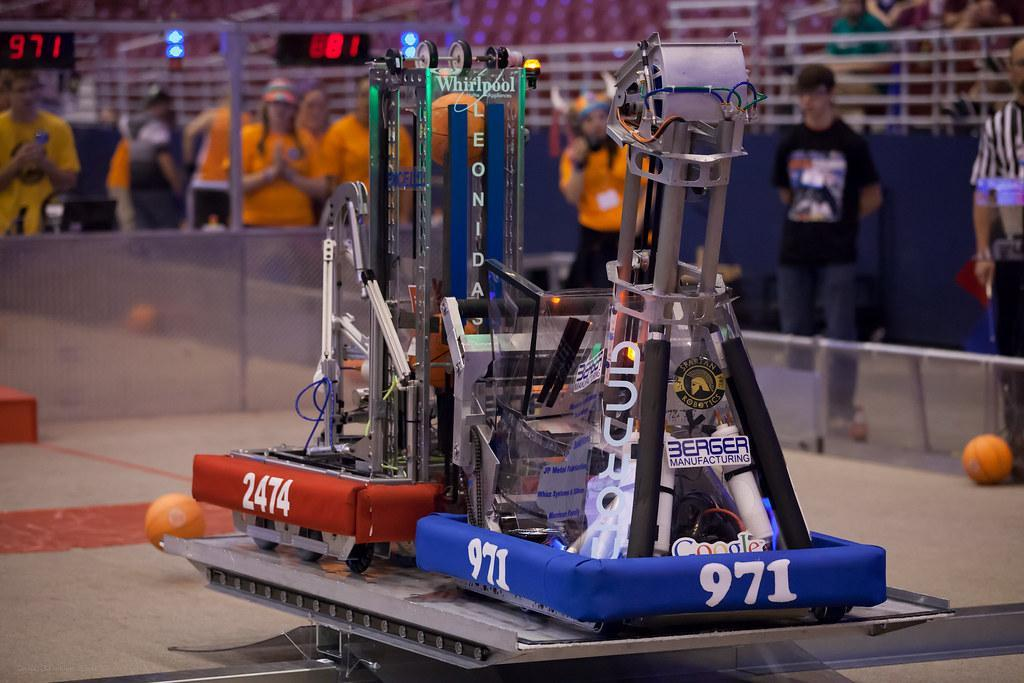robot: (411, 22, 896, 641), (186, 162, 564, 572)
